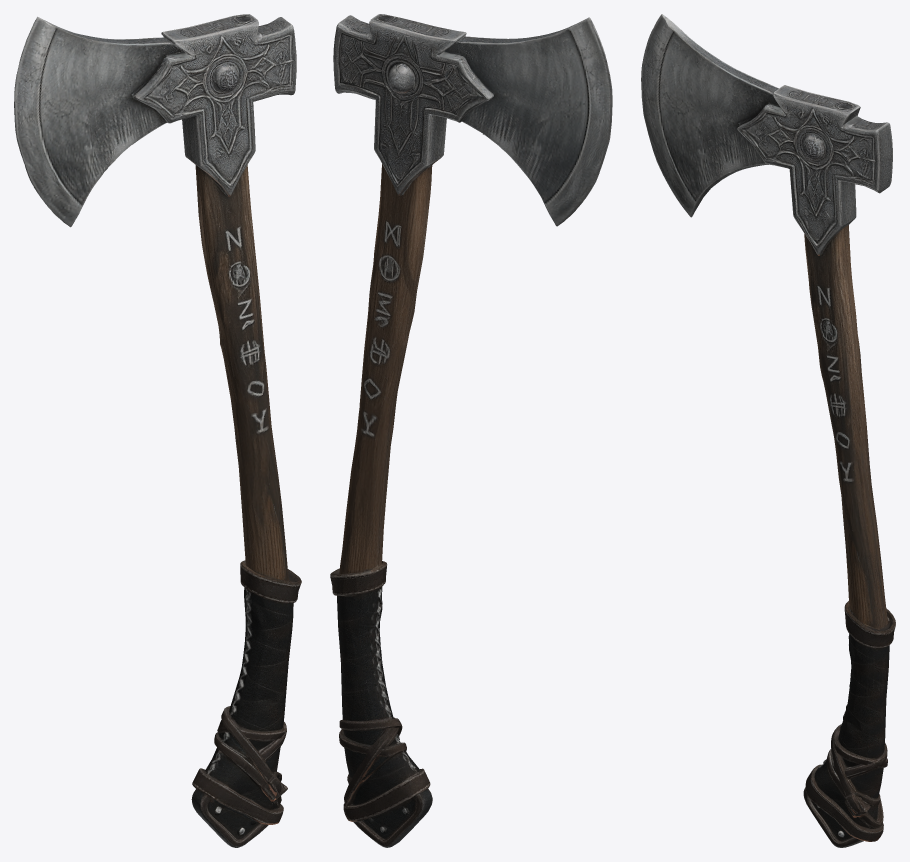
The model's file is Meshy_AI_Weapon_hand_axe_01a0e8cb_texture.glb.
3 renders of one model, left to right at view 1: azimuth 30°, elevation 25°; view 2: azimuth 150°, elevation 25°; view 3: azimuth 330°, elevation 25°, orthographic. The views are drawn at different scales.
Size of the model in its own units: 0.6386 by 1.9 by 0.1218.
1 material, 1 textured.
